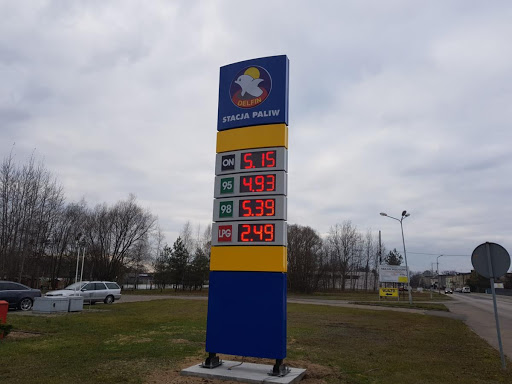LPG: (216, 223, 232, 240)
ON: (219, 151, 236, 170)
PB95: (217, 175, 237, 193)
PB98: (218, 199, 234, 218)
